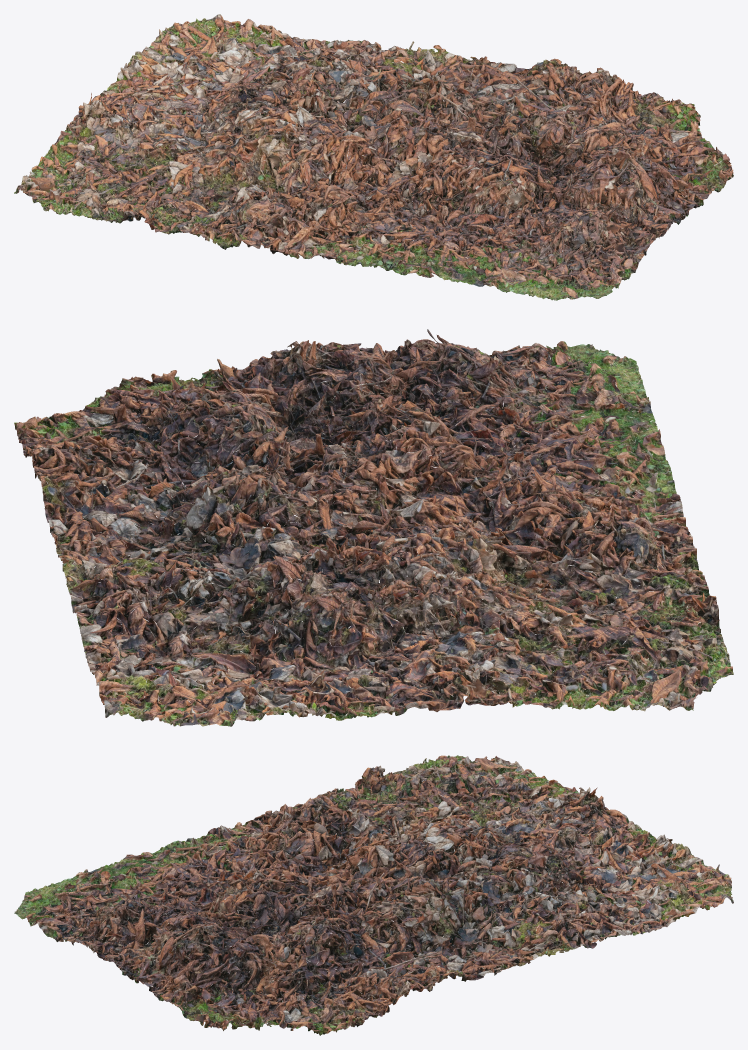
File: sf-leftover-tree-leaves-9b7df4.glb
3 views of the same model, one above another, from view 1: azimuth 30°, elevation 25°; view 2: azimuth 150°, elevation 25°; view 3: azimuth 270°, elevation 25° (orthographic). The views are drawn at different scales.
Parts seen in each view (by area): view 1: Model_material0_0, Model_material1_0, Model_material2_0; view 2: Model_material0_0, Model_material1_0, Model_material2_0; view 3: Model_material2_0, Model_material0_0, Model_material1_0.
Part boxes in pixels (x1,y1,x2,y2): Model_material0_0: (21, 14, 731, 300); Model_material1_0: (17, 18, 733, 299); Model_material2_0: (14, 17, 733, 300); Model_material0_0: (15, 329, 731, 724); Model_material1_0: (14, 329, 733, 722); Model_material2_0: (16, 335, 732, 726); Model_material2_0: (16, 755, 732, 1034); Model_material0_0: (14, 755, 731, 1035); Model_material1_0: (17, 755, 733, 1032).
Bounding box in the file's own units: 3.65 × 0.402 × 4.03.
Materials: 3 (3 with a texture image).
